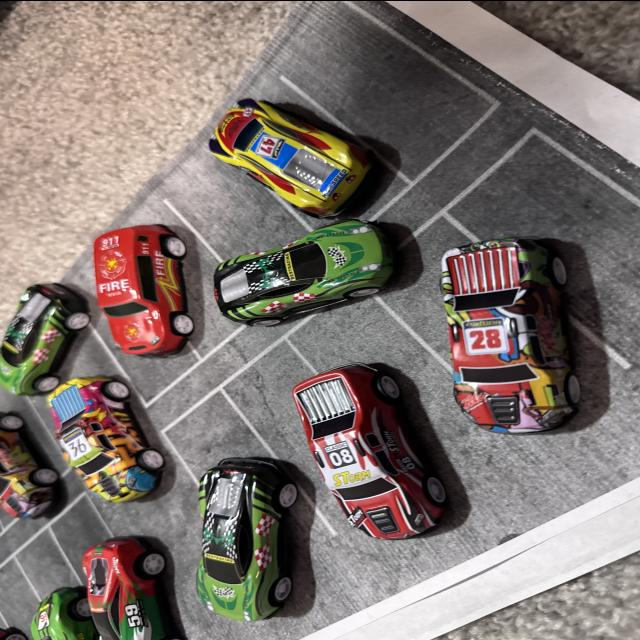Car: (414, 188, 632, 491), (271, 368, 515, 548), (189, 425, 327, 640), (197, 107, 415, 230), (220, 204, 398, 336), (0, 228, 110, 394), (38, 336, 144, 491), (102, 212, 192, 360), (23, 567, 171, 640), (95, 508, 172, 640), (0, 430, 39, 548)
